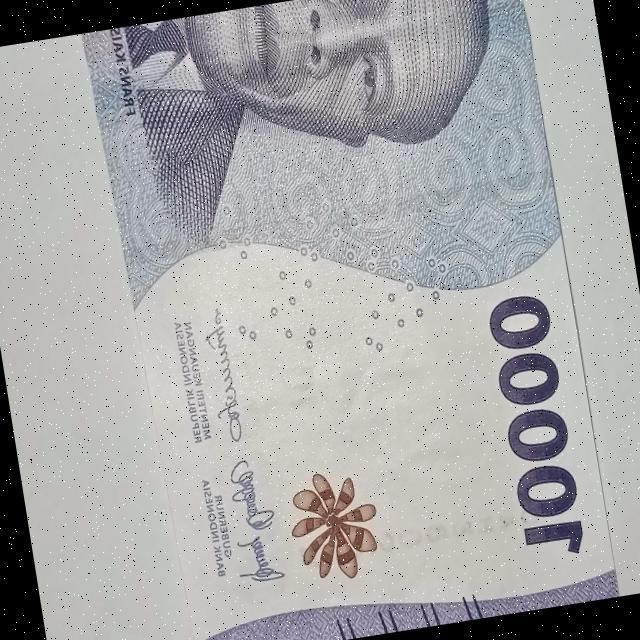10K: (75, 0, 628, 640)
